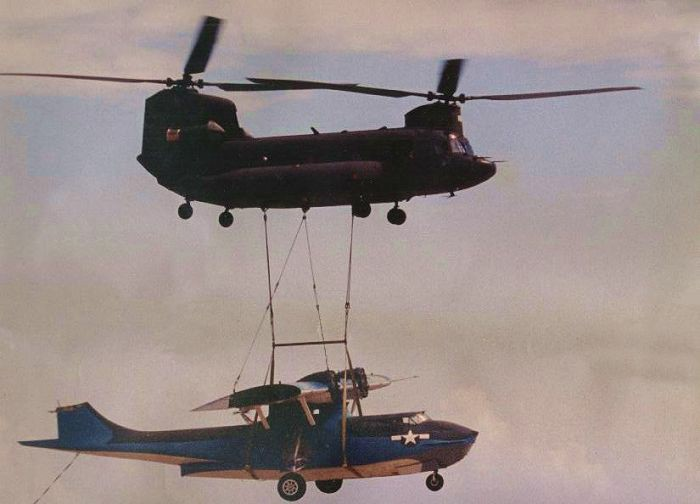chinook: (66, 15, 631, 226)
